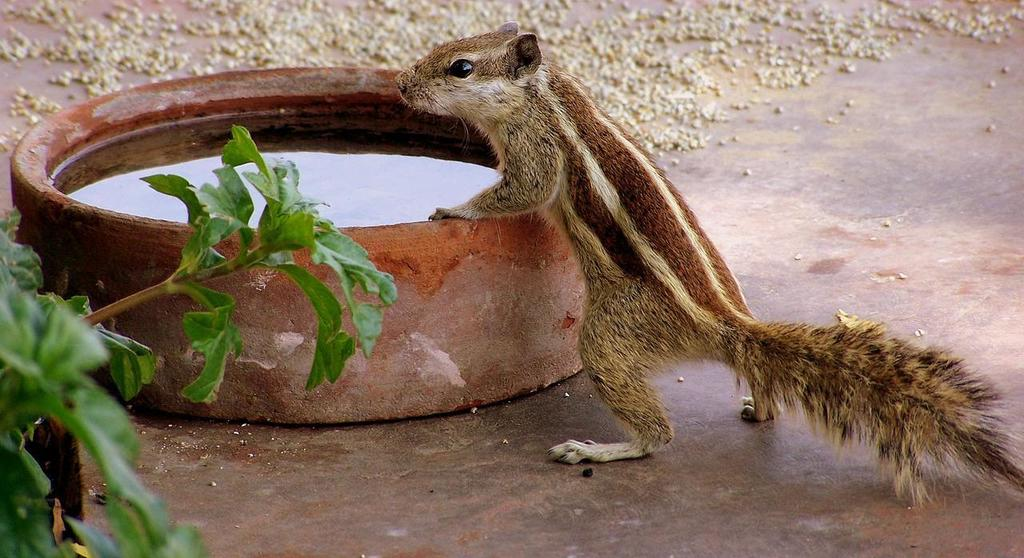Animal: (392, 19, 1021, 512)
